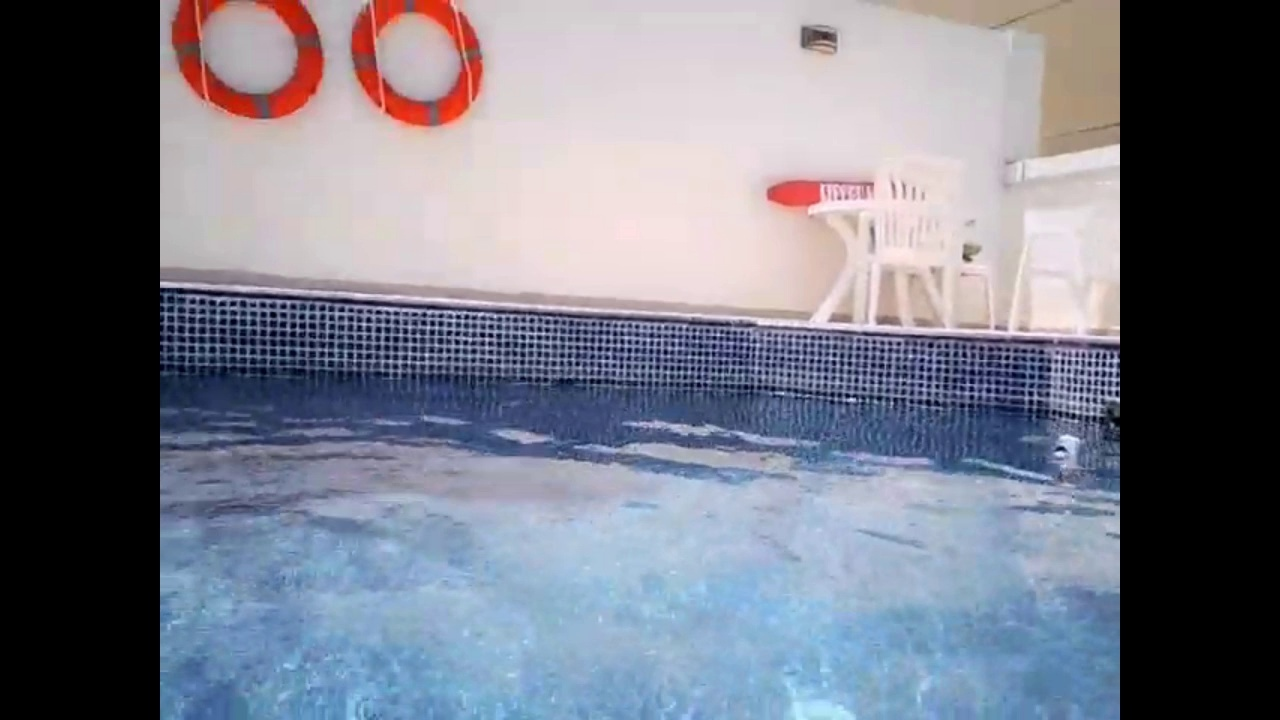debris: (1040, 429, 1084, 479)
